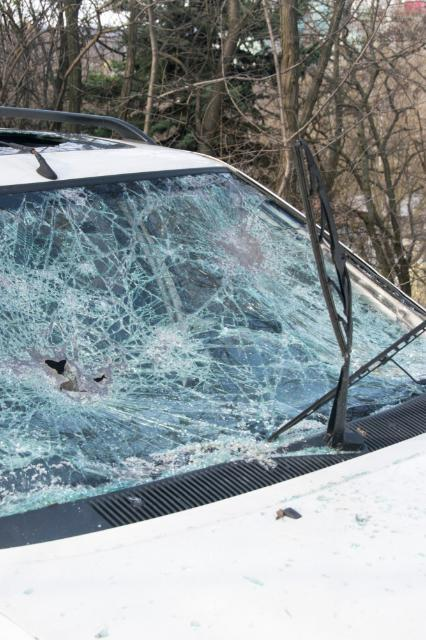glass shatter: (0, 170, 426, 517)
